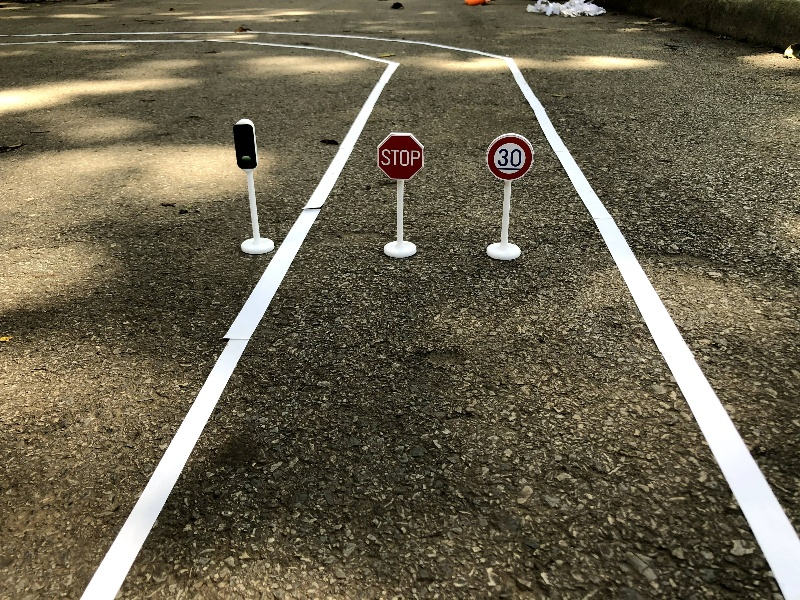Bien_bao_30: (479, 130, 537, 267)
Den_Xanh: (217, 115, 293, 263)
Stop: (367, 129, 434, 268)
